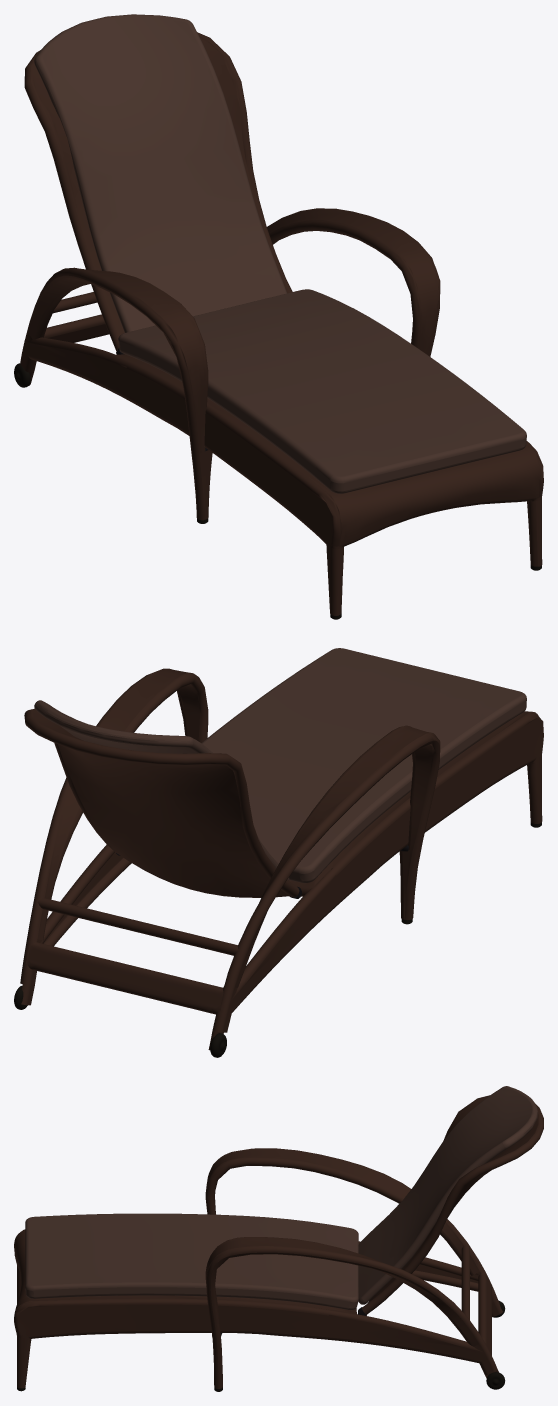
Rendered from Beach chair.FBX.
3 views of the same model, one above another, from view 1: azimuth 30°, elevation 25°; view 2: azimuth 150°, elevation 25°; view 3: azimuth 270°, elevation 25° (orthographic). The views are drawn at different scales.
Visible parts, largest first — view 1: Obj_000016, Obj_025, Obj_000001, Obj_020, Obj_000020; view 2: Obj_000001, Obj_025, Obj_020, Obj_000016, Obj_000020, Obj_000019, Obj_019; view 3: Obj_000001, Obj_025, Obj_000016, Obj_020, Obj_019, Obj_000020, Obj_000019.
Part boxes in pixels (x1,y1,x2,y2): Obj_000016: (34, 14, 286, 332); Obj_025: (118, 289, 526, 493); Obj_000001: (20, 208, 543, 615); Obj_020: (24, 32, 292, 351); Obj_000020: (44, 314, 109, 342); Obj_000001: (20, 668, 543, 1050); Obj_025: (201, 648, 526, 883); Obj_020: (24, 708, 299, 897); Obj_000016: (34, 700, 289, 880); Obj_000020: (123, 965, 223, 1014); Obj_000019: (26, 942, 129, 991); Obj_019: (37, 898, 238, 955); Obj_000001: (14, 1148, 502, 1388); Obj_025: (25, 1213, 358, 1310); Obj_000016: (358, 1086, 537, 1304); Obj_020: (362, 1095, 543, 1314); Obj_019: (461, 1245, 469, 1319); Obj_000020: (478, 1273, 491, 1320); Obj_000019: (478, 1307, 491, 1355).
Bounding box in the file's own units: 852 × 959 × 1887.
